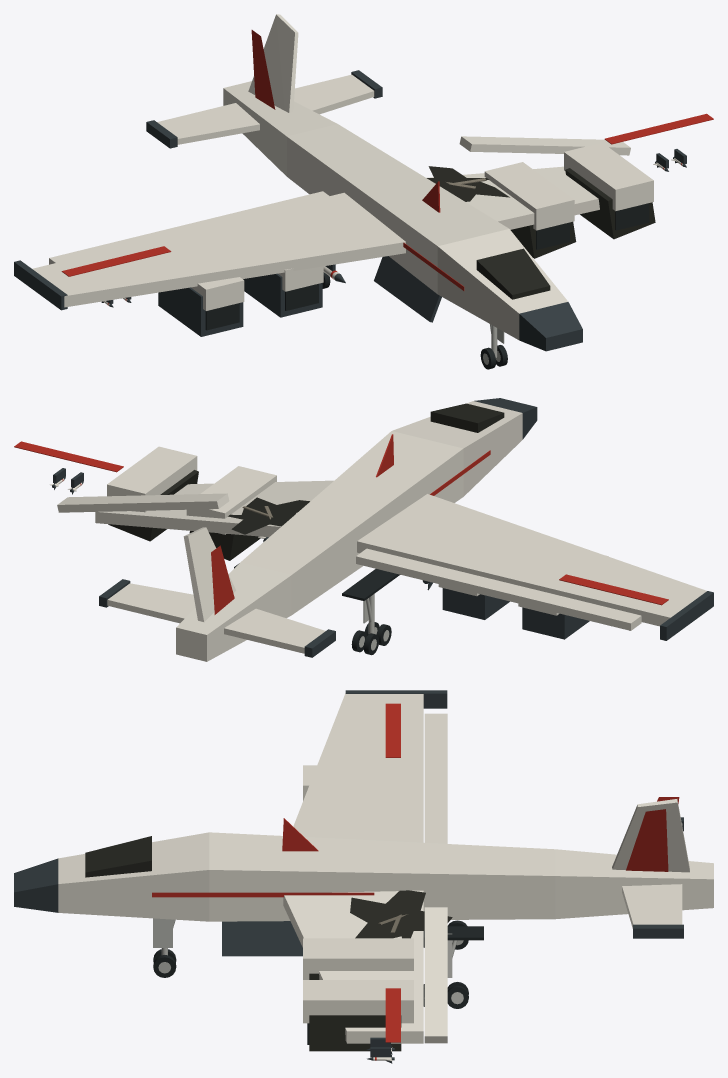
3 views of the same model, one above another, from view 1: azimuth 30°, elevation 25°; view 2: azimuth 150°, elevation 25°; view 3: azimuth 270°, elevation 25° (orthographic). The views are drawn at different scales.
Visible parts, largest first — view 1: bomber-damaged-fleet-armor, bomber-damaged-fleet-machine, bomber-damaged-fleet-damage-charred, bomber-damaged-fleet-red, bomber-damaged-fleet-rubber, flap-right-painted, flap-left-painted; view 2: bomber-damaged-fleet-armor, bomber-damaged-fleet-machine, flap-left-painted, bomber-damaged-fleet-damage-charred, bomber-damaged-fleet-red, flap-right-painted, bomber-damaged-fleet-rubber; view 3: bomber-damaged-fleet-armor, bomber-damaged-fleet-damage-charred, bomber-damaged-fleet-machine, bomber-damaged-fleet-red, flap-right-painted, flap-left-painted, landing-gear-nose-fleet-edge, bomber-damaged-fleet-rubber.
Boxes of the visible parts, x1=… form: bomber-damaged-fleet-armor: x1=32, y1=14, x2=653, y2=339; bomber-damaged-fleet-machine: x1=14, y1=70, x2=686, y2=351; bomber-damaged-fleet-damage-charred: x1=427, y1=166, x2=655, y2=299; bomber-damaged-fleet-red: x1=61, y1=30, x2=713, y2=290; bomber-damaged-fleet-rubber: x1=205, y1=203, x2=649, y2=330; flap-right-painted: x1=459, y1=136, x2=630, y2=155; flap-left-painted: x1=49, y1=191, x2=329, y2=264; bomber-damaged-fleet-armor: x1=95, y1=401, x2=706, y2=661; bomber-damaged-fleet-machine: x1=53, y1=398, x2=713, y2=657; flap-left-painted: x1=356, y1=548, x2=641, y2=630; bomber-damaged-fleet-damage-charred: x1=108, y1=403, x2=504, y2=560; bomber-damaged-fleet-red: x1=14, y1=434, x2=668, y2=614; flap-right-painted: x1=57, y1=493, x2=229, y2=512; bomber-damaged-fleet-rubber: x1=234, y1=563, x2=399, y2=600; bomber-damaged-fleet-armor: x1=58, y1=693, x2=713, y2=1043; bomber-damaged-fleet-damage-charred: x1=85, y1=836, x2=452, y2=1051; bomber-damaged-fleet-machine: x1=14, y1=690, x2=683, y2=1057; bomber-damaged-fleet-red: x1=152, y1=703, x2=679, y2=1042; flap-right-painted: x1=424, y1=907, x2=447, y2=1043; flap-left-painted: x1=424, y1=713, x2=447, y2=843; landing-gear-nose-fleet-edge: x1=153, y1=918, x2=175, y2=955; bomber-damaged-fleet-rubber: x1=307, y1=926, x2=483, y2=1044.
Bounding box in the file's own units: 150 × 37.06 × 126.
